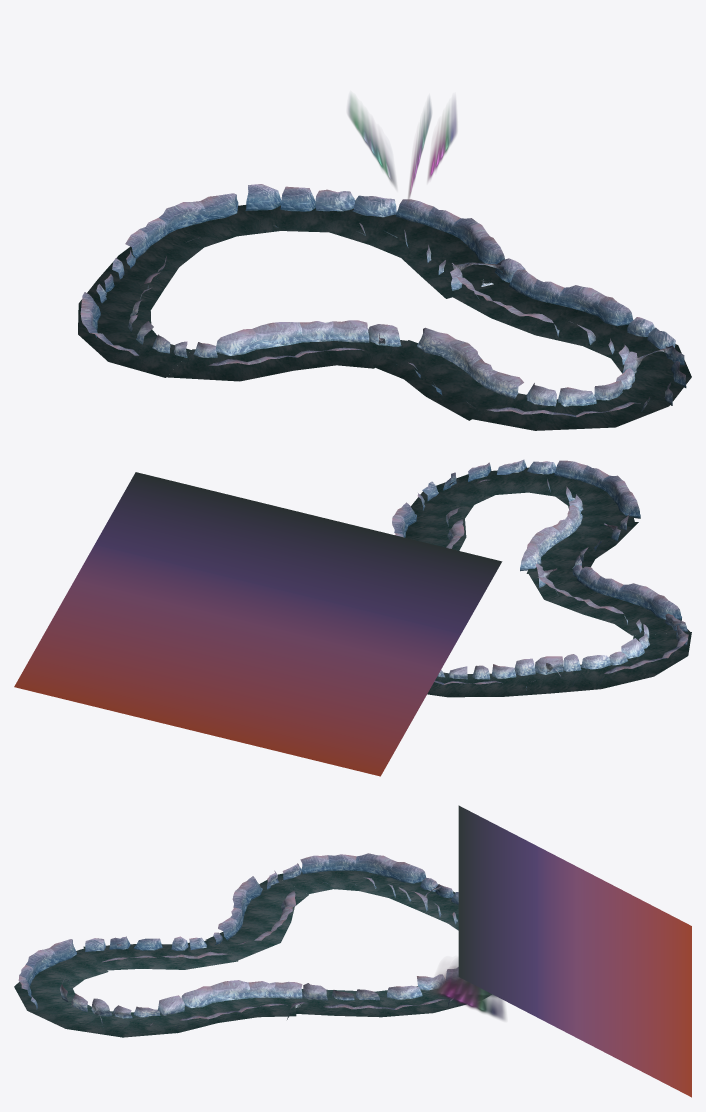
The model's file is mvc2-river.glb.
3 renders of one model, top to bottom at view 1: azimuth 30°, elevation 25°; view 2: azimuth 150°, elevation 25°; view 3: azimuth 270°, elevation 25°, orthographic. The views are drawn at different scales.
Visible parts, largest first — view 1: River, Aurora1, Aurora3, Aurora2; view 2: Main_BG, River; view 3: Main_BG, River, Aurora3, Aurora2.
Boxes of the visible parts, box(x1,y1,x2,y2) form: River: box(78, 184, 691, 430); Aurora1: box(347, 95, 396, 188); Aurora3: box(427, 99, 457, 181); Aurora2: box(407, 98, 431, 204); Main_BG: box(14, 472, 502, 776); River: box(392, 459, 691, 697); Main_BG: box(295, 805, 691, 1097); River: box(14, 853, 491, 1037); Aurora3: box(438, 976, 505, 1020); Aurora2: box(430, 964, 495, 996).
Size of the model in its own units: 1393 by 348 by 1773.
Materials: 12 (11 with a texture image).
